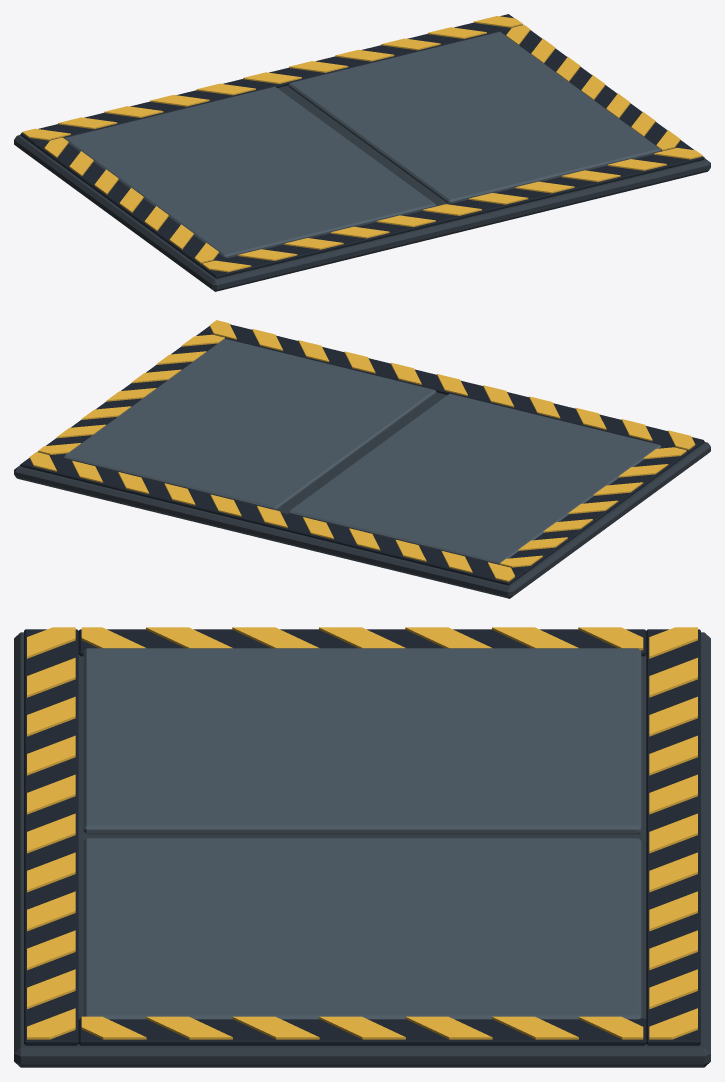
The model's file is Station_FloorPad.fbx.
3 renders of one model, top to bottom at view 1: azimuth 30°, elevation 25°; view 2: azimuth 150°, elevation 25°; view 3: azimuth 270°, elevation 25°, orthographic. The views are drawn at different scales.
Visible parts, largest first — view 1: Frame, Accent, Slate, FrameDark; view 2: Frame, Slate, Accent, FrameDark; view 3: Frame, Accent, Slate, FrameDark.
Part boxes in pixels (bbox=[...]): Frame: bbox=[64, 32, 660, 258]; Accent: bbox=[22, 16, 702, 272]; Slate: bbox=[20, 14, 704, 278]; FrameDark: bbox=[14, 85, 710, 291]; Frame: bbox=[64, 339, 661, 564]; Slate: bbox=[20, 324, 704, 585]; Accent: bbox=[29, 320, 695, 581]; FrameDark: bbox=[14, 392, 710, 598]; Frame: bbox=[83, 648, 641, 1019]; Accent: bbox=[27, 627, 697, 1039]; Slate: bbox=[24, 629, 700, 1045]; FrameDark: bbox=[14, 632, 710, 1067].
Bounding box in the file's own units: 10 × 0.31 × 7.
